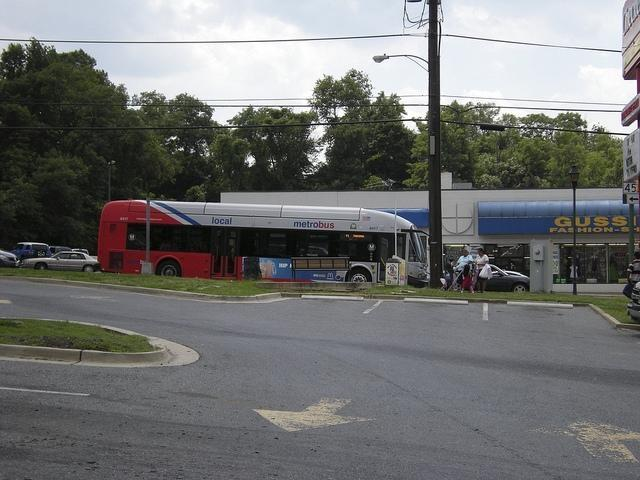bus: (96, 200, 430, 287)
car: (21, 251, 100, 272), (486, 265, 530, 294), (10, 243, 50, 261), (625, 280, 640, 325), (0, 248, 22, 269), (48, 246, 72, 257)
